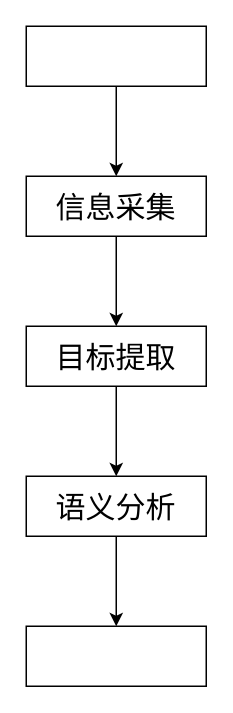
Image size: 233x713. Some labels were removed from this diagram. The shapes that lost their labels are listed below. From the top down, each one's centre as x and y in pixels, then its label:
At (x=115, y=55): "现实世界".
At (x=115, y=655): "执行".
